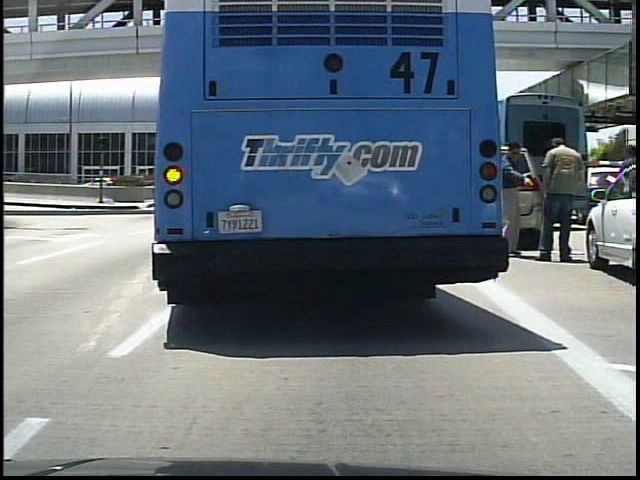person: (536, 131, 583, 271), (503, 137, 537, 264), (615, 144, 637, 244)
